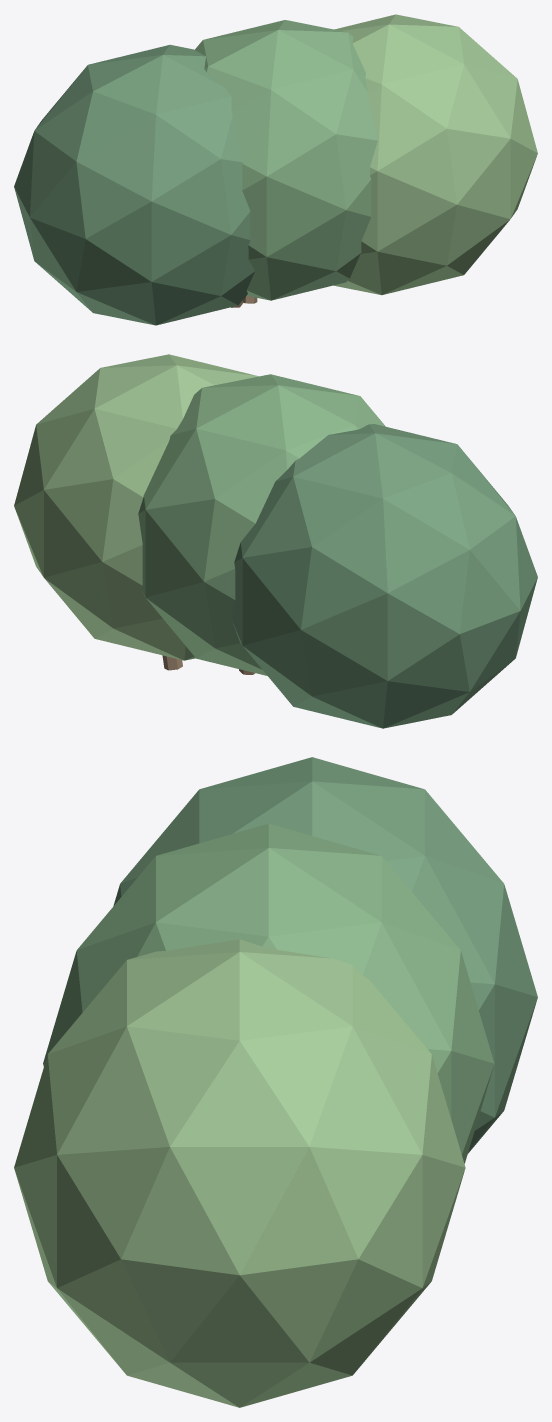
The model's file is bush-b.glb.
The picture shows the model from 3 angles, top to bottom: view 1: azimuth 30°, elevation 25°; view 2: azimuth 150°, elevation 25°; view 3: azimuth 270°, elevation 25°; orthographic projection. The views are drawn at different scales.
Visible parts, largest first — view 1: Bush_1, Bush_3, Bush_2; view 2: Bush_1, Bush_3, Bush_2; view 3: Bush_3, Bush_2, Bush_1.
Part boxes in pixels (box(x1,y1,x2,y2)): Bush_1: box(14, 44, 254, 325); Bush_3: box(333, 14, 537, 295); Bush_2: box(195, 20, 377, 300); Bush_1: box(231, 424, 537, 728); Bush_3: box(14, 354, 258, 660); Bush_2: box(138, 374, 385, 675); Bush_3: box(14, 939, 465, 1407); Bush_2: box(43, 823, 494, 1163); Bush_1: box(113, 757, 537, 1153).
Size of the model in its own units: 2.19 by 1.22 by 1.28.
